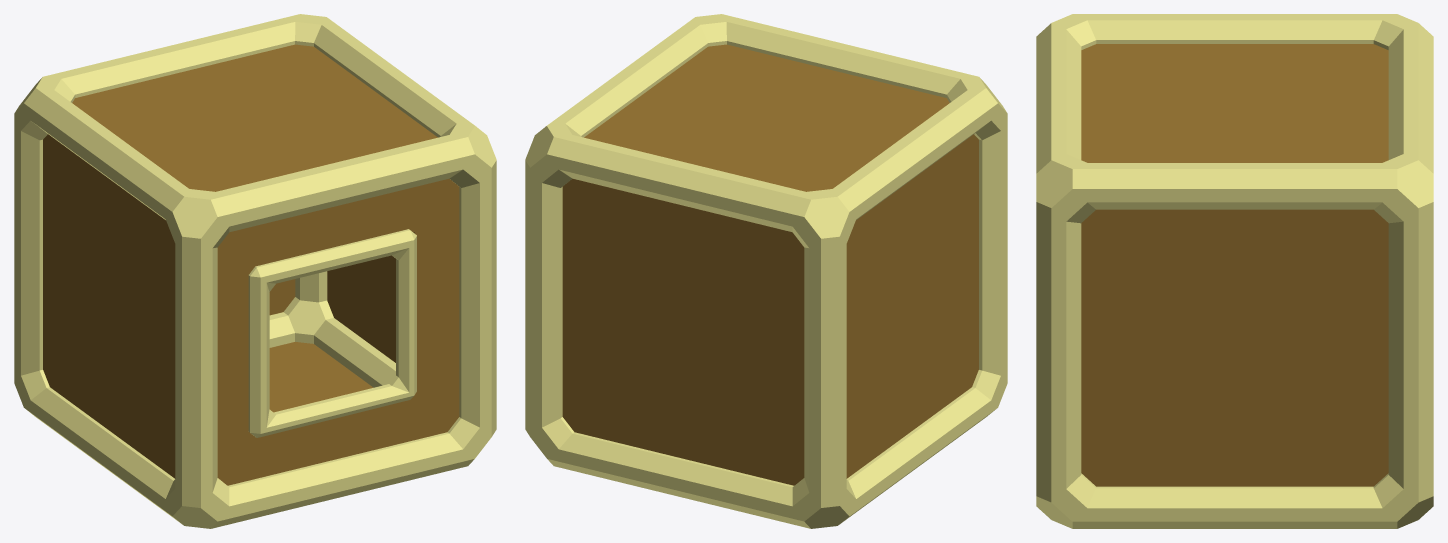
File: block_character_new_wood.fbx
The picture shows the model from 3 angles, left to right: view 1: azimuth 30°, elevation 25°; view 2: azimuth 150°, elevation 25°; view 3: azimuth 270°, elevation 25°; orthographic projection. The views are drawn at different scales.
Visible parts, largest first — view 1: block_character_new_wood; view 2: block_character_new_wood; view 3: block_character_new_wood.
Boxes of the visible parts, x1=… form: block_character_new_wood: x1=14, y1=14, x2=496, y2=528; block_character_new_wood: x1=525, y1=14, x2=1007, y2=528; block_character_new_wood: x1=1036, y1=14, x2=1433, y2=528.
Bounding box in the file's own units: 200 × 200 × 200.
